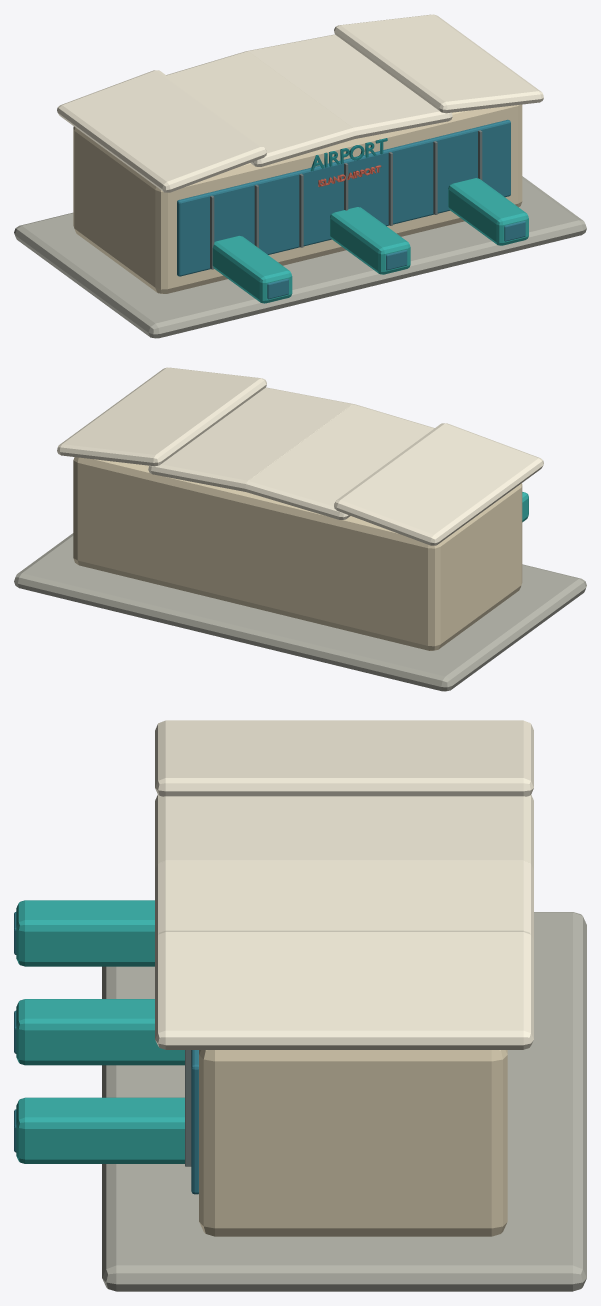
Rendered from airport-terminal-v2.glb.
The picture shows the model from 3 angles, top to bottom: view 1: azimuth 30°, elevation 25°; view 2: azimuth 150°, elevation 25°; view 3: azimuth 270°, elevation 25°; orthographic projection. The views are drawn at different scales.
Parts seen in each view (by area): view 1: AIRPORT TERMINAL · Chalk; view 2: AIRPORT TERMINAL · Chalk; view 3: AIRPORT TERMINAL · Chalk.
Boxes of the visible parts, left/top/right/bottom form: AIRPORT TERMINAL · Chalk: left=14, top=14, right=586, bottom=338; AIRPORT TERMINAL · Chalk: left=14, top=367, right=586, bottom=691; AIRPORT TERMINAL · Chalk: left=14, top=720, right=586, bottom=1291.
Size of the model in its own units: 9.8 by 3.25 by 6.5.
Materials: 1 (1 with a texture image).
